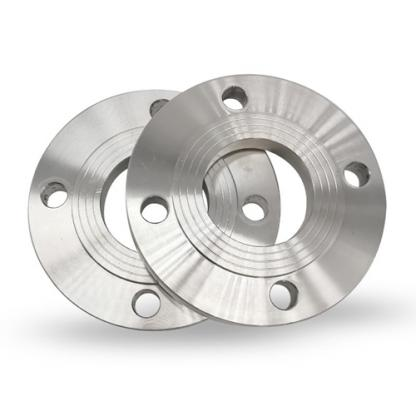FOD: (123, 70, 392, 331), (26, 85, 284, 336)
